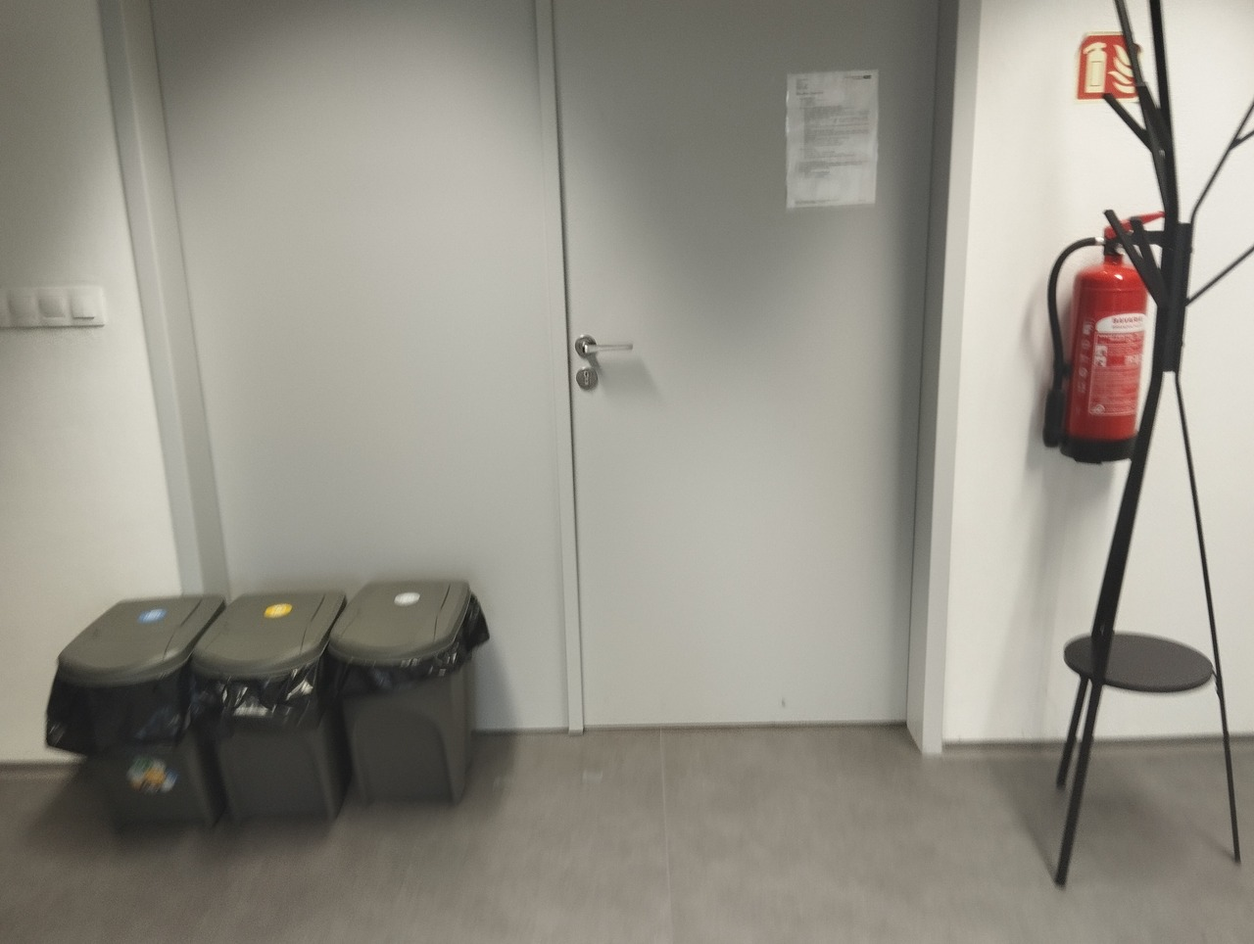Door-handle: (567, 332, 643, 366)
